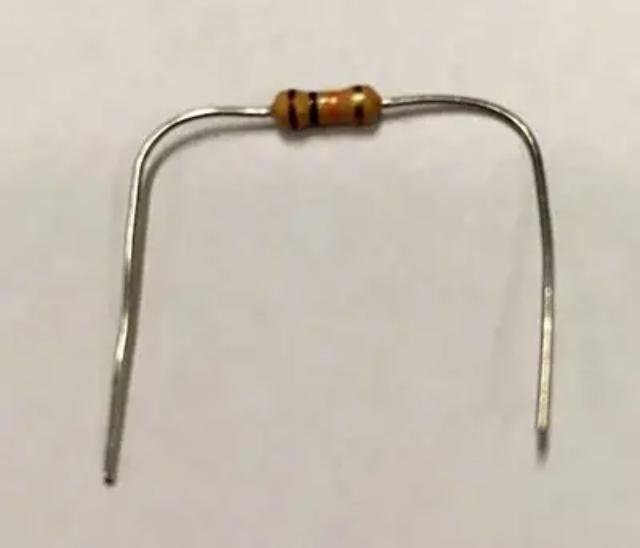black: (307, 90, 319, 126)
brown: (286, 88, 300, 131)
gold: (350, 85, 366, 128)
orange: (325, 91, 340, 126)
resistor: (250, 67, 410, 152)
